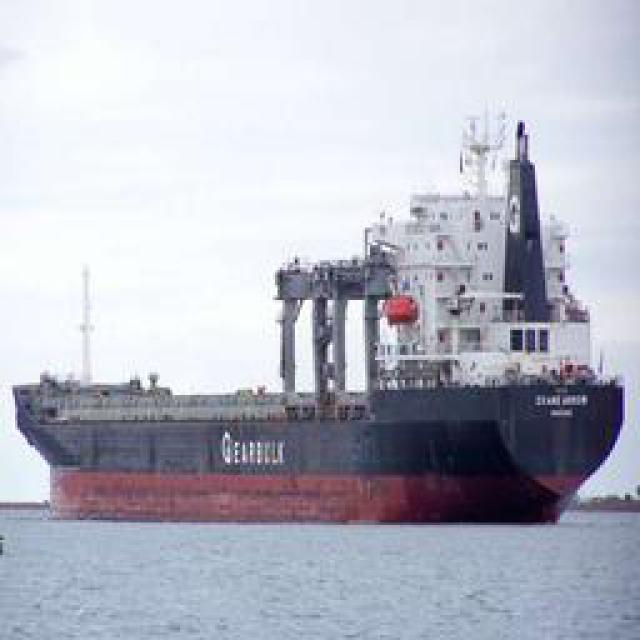Ship: (10, 89, 628, 530)
